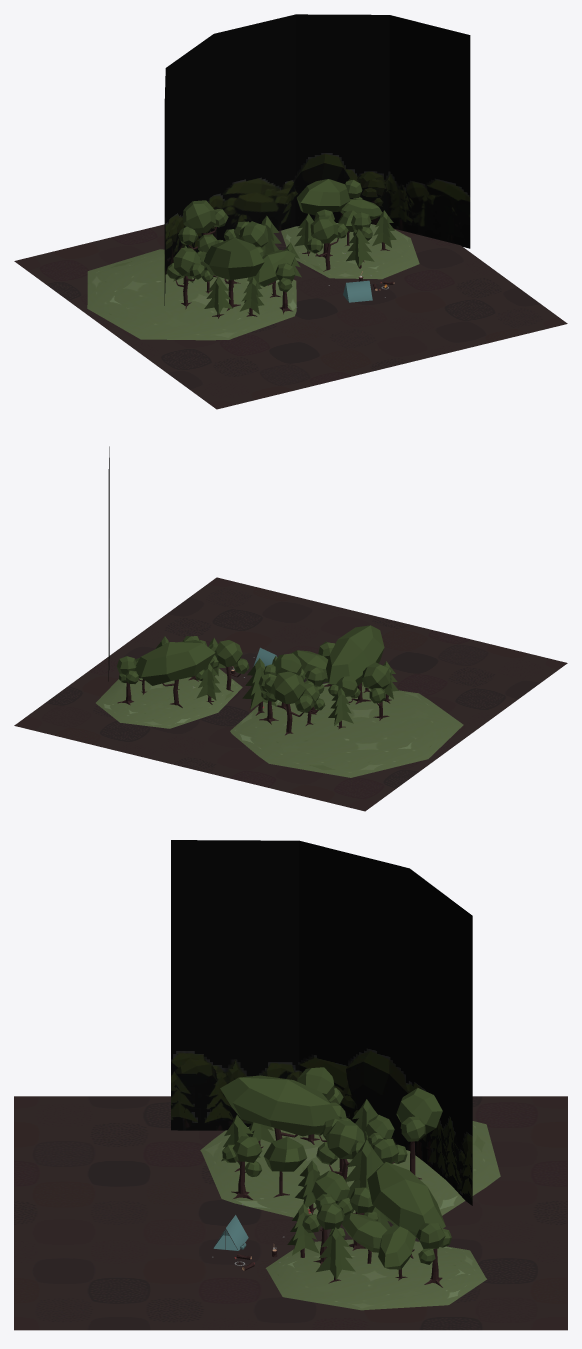
The picture shows the model from 3 angles, top to bottom: view 1: azimuth 30°, elevation 25°; view 2: azimuth 150°, elevation 25°; view 3: azimuth 270°, elevation 25°; orthographic projection. The views are drawn at different scales.
Visible parts, largest first — view 1: Panorama, Ground1, Grass, Bush6 (×4), Grass1, Bush4 (×4), Tent; view 2: Ground1, Grass, Bush6 (×3), Grass1, Bush4 (×4); view 3: Ground1, Panorama, Bush6 (×5), Grass1, Grass, Bush4 (×4), Tent.
Part boxes in pixels (<box>): Panorama: <box>164,14,470,305</box>; Ground1: <box>14,224,567,409</box>; Grass: <box>87,249,296,340</box>; Bush6 (×4): <box>203,179,382,286</box>; Grass1: <box>281,223,419,279</box>; Bush4 (×4): <box>173,200,338,276</box>; Tent: <box>343,280,372,302</box>; Ground1: <box>14,577,567,811</box>; Grass: <box>230,682,463,777</box>; Bush6 (×3): <box>134,625,384,686</box>; Grass1: <box>96,668,242,728</box>; Bush4 (×4): <box>214,640,390,704</box>; Ground1: <box>14,1096,567,1330</box>; Panorama: <box>171,840,472,1205</box>; Bush6 (×5): <box>220,1075,445,1269</box>; Grass1: <box>265,1239,486,1310</box>; Grass: <box>200,1121,500,1217</box>; Bush4 (×4): <box>297,1067,442,1203</box>; Tent: <box>213,1215,248,1250</box>.
Size of the model in its own units: 5791 by 3376 by 5713.
